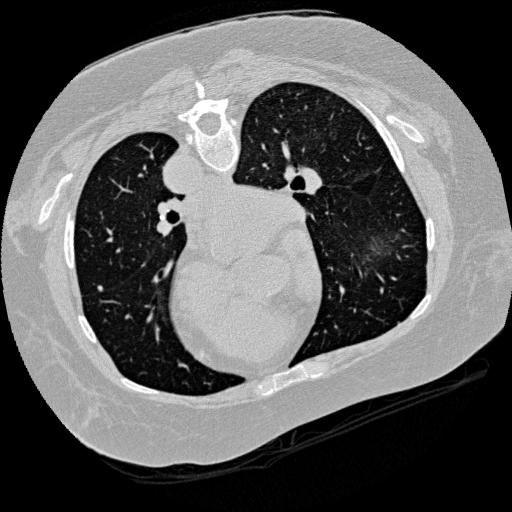nodule: (95, 282, 108, 295)
